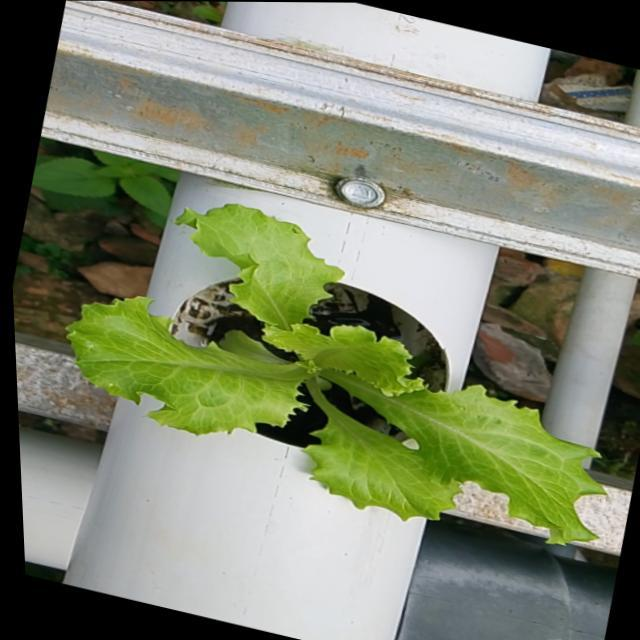Baby: (64, 204, 604, 546)
